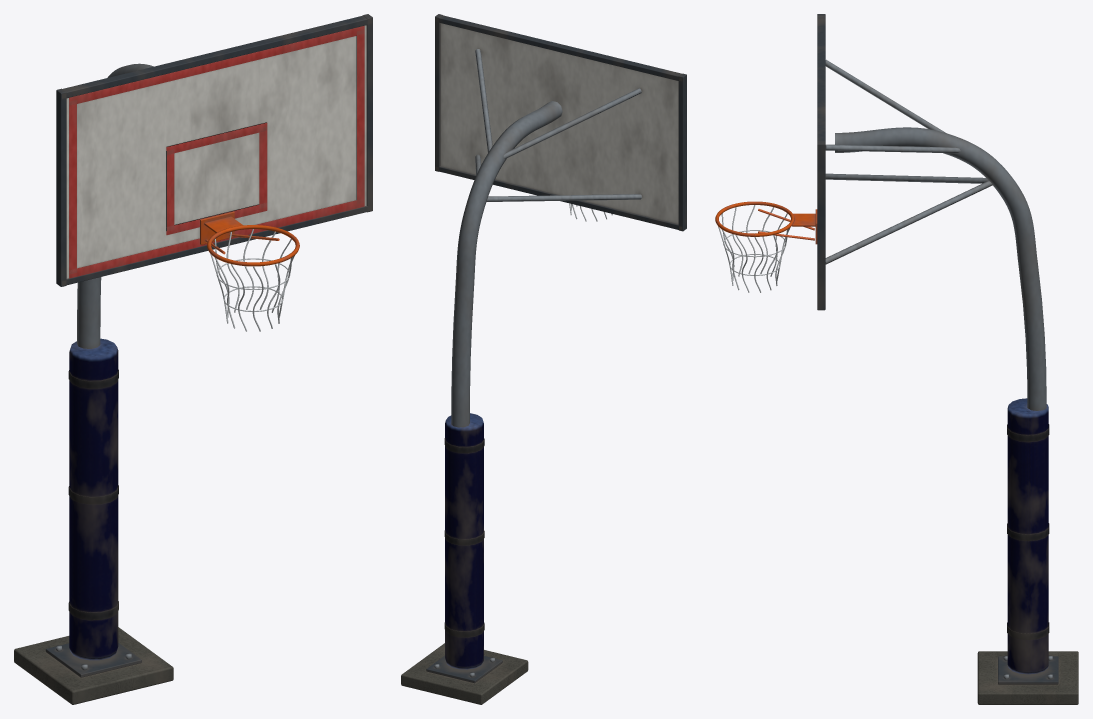
File: boisko_kosz.glb
3 views of the same model, side by side, from view 1: azimuth 30°, elevation 25°; view 2: azimuth 150°, elevation 25°; view 3: azimuth 270°, elevation 25° (orthographic). The views are drawn at different scales.
Visible parts, largest first — view 1: Kosz, Siatka; view 2: Kosz; view 3: Kosz, Siatka.
Part boxes in pixels (x1,y1,x2,y2): Kosz: (14,14,372,704); Siatka: (210,229,294,331); Kosz: (401,14,686,704); Kosz: (715,14,1078,704); Siatka: (718,205,790,292).
Size of the model in its own units: 1.83 by 3.97 by 2.16.
Materials: 2 (1 with a texture image).
